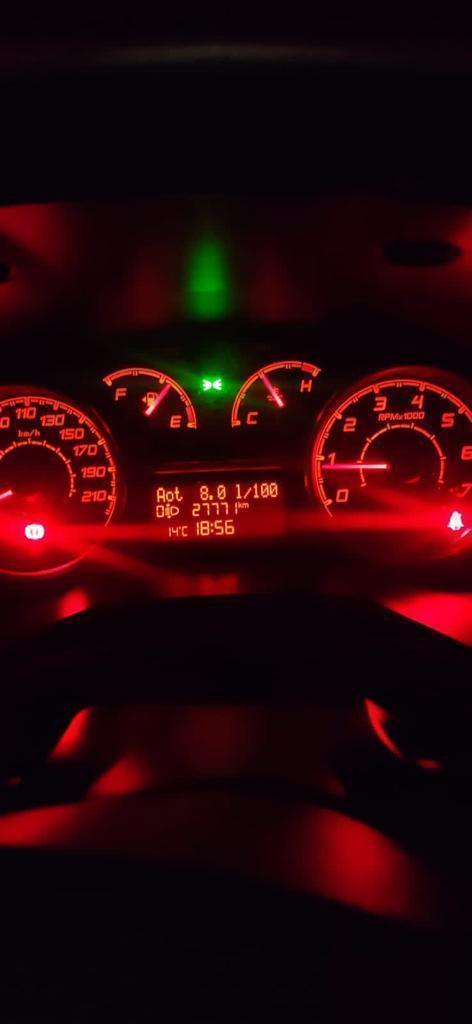,: (208, 494, 213, 500)
0: (216, 484, 226, 500), (269, 482, 278, 498), (260, 482, 269, 498), (155, 504, 164, 518)
1: (253, 482, 259, 498), (195, 520, 199, 536), (234, 501, 237, 515), (168, 526, 171, 537)
2: (192, 503, 200, 516)
4: (171, 526, 178, 536)
5: (214, 519, 224, 535)
6: (224, 519, 234, 535)
7: (220, 502, 229, 515), (202, 502, 210, 515), (211, 502, 219, 515)
8: (200, 520, 209, 536), (199, 484, 208, 500)
X: (156, 486, 165, 502), (174, 486, 183, 502), (235, 481, 242, 500), (242, 485, 251, 498), (166, 490, 174, 502), (181, 525, 187, 537), (242, 502, 249, 509), (210, 522, 214, 534), (237, 501, 241, 508)
odometer: (143, 477, 290, 545)
